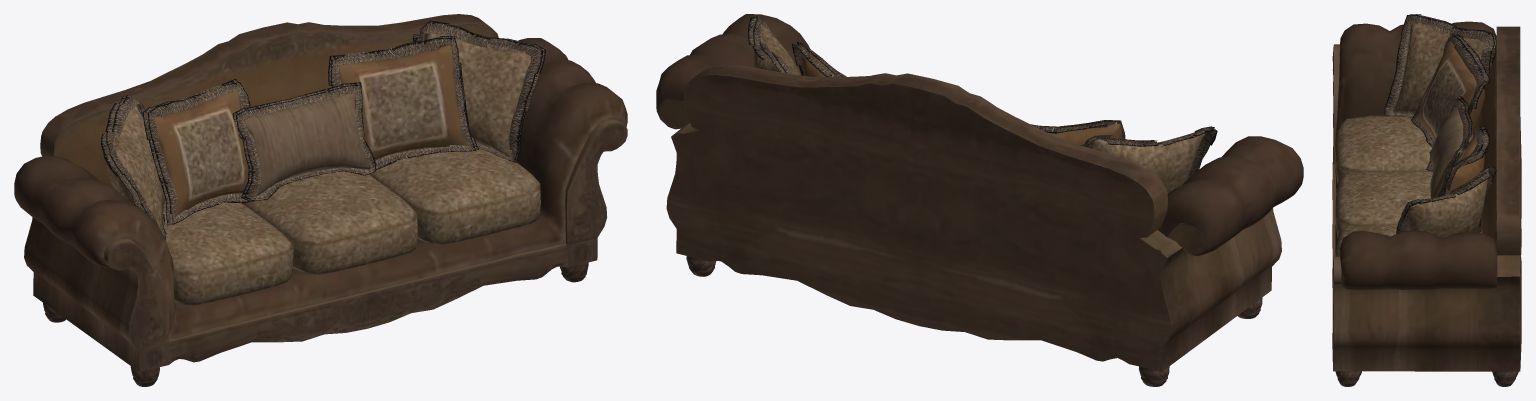
The model's file is sofa_03.glb.
3 views of the same model, side by side, from view 1: azimuth 30°, elevation 25°; view 2: azimuth 150°, elevation 25°; view 3: azimuth 270°, elevation 25° (orthographic). The views are drawn at different scales.
Visible parts, largest first — view 1: sofa_03; view 2: sofa_03; view 3: sofa_03.
Part boxes in pixels (x1,y1,x2,y2): sofa_03: (14,14,627,386); sofa_03: (656,14,1303,386); sofa_03: (1332,14,1521,386).
Bounding box in the file's own units: 2.73 × 1.12 × 0.925.
2 materials, 2 textured.
